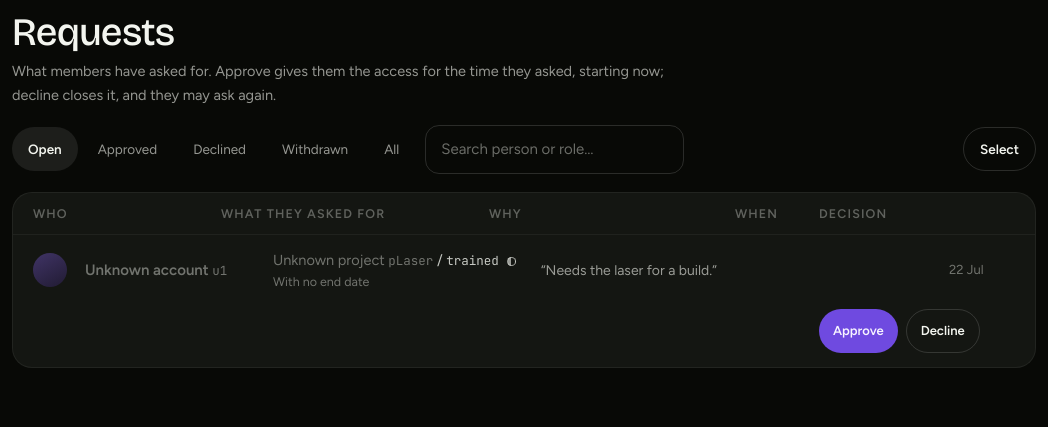
Test: a decided request names its person and its next step › approving while Zitadel was offline says so, in the board's words
Click the button "Approve".
click(858, 331)  # box 819,309 -> 898,353
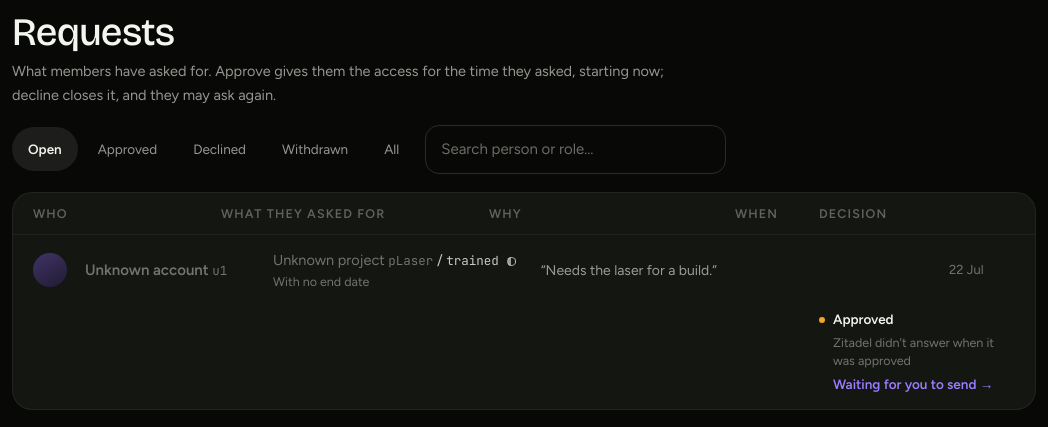
Expected: the message shows "Zitadel didn't answer when it was approved", 833,335 -> 994,368
Expected: the link "Waiting for you to send →" is shown, 833,374 -> 993,395
